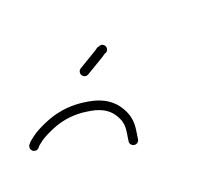i: (65, 36, 122, 85)
n: (22, 96, 165, 157)
